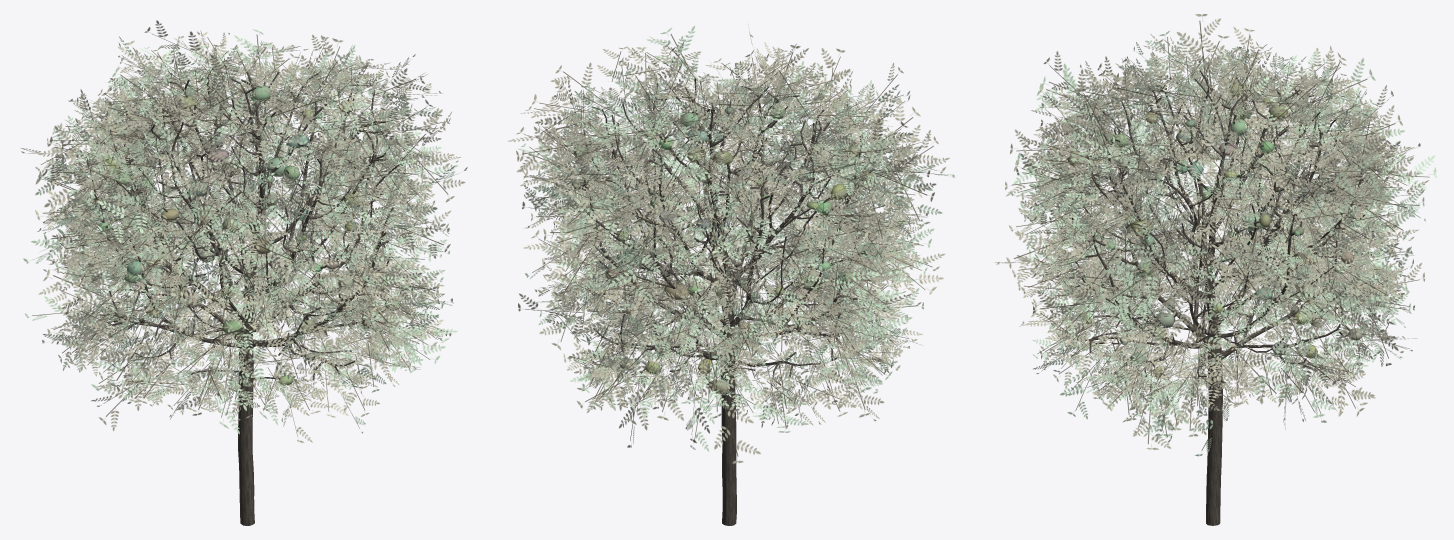
File: tree_67_broadleaf.glb
3 renders of one model, left to right at view 1: azimuth 30°, elevation 25°; view 2: azimuth 150°, elevation 25°; view 3: azimuth 270°, elevation 25°, orthographic.
Parts seen in each view (by area): view 1: tree_67_broadleaf.leaves, tree_67_broadleaf.trunk_branches, tree_67_broadleaf.foliage_volume; view 2: tree_67_broadleaf.leaves, tree_67_broadleaf.trunk_branches, tree_67_broadleaf.foliage_volume; view 3: tree_67_broadleaf.leaves, tree_67_broadleaf.trunk_branches, tree_67_broadleaf.foliage_volume.
Part boxes in pixels (bbox=[...]): tree_67_broadleaf.leaves: bbox=[21, 20, 467, 442]; tree_67_broadleaf.trunk_branches: bbox=[85, 64, 405, 525]; tree_67_broadleaf.foliage_volume: bbox=[98, 85, 401, 385]; tree_67_broadleaf.leaves: bbox=[508, 24, 955, 463]; tree_67_broadleaf.trunk_branches: bbox=[578, 78, 882, 525]; tree_67_broadleaf.foliage_volume: bbox=[571, 106, 877, 393]; tree_67_broadleaf.leaves: bbox=[995, 14, 1436, 456]; tree_67_broadleaf.trunk_branches: bbox=[1061, 70, 1365, 525]; tree_67_broadleaf.foliage_volume: bbox=[1067, 83, 1363, 377].
Bounding box in the file's own units: 9.17 × 10.42 × 8.99.
Materials: 3 (2 with a texture image).
